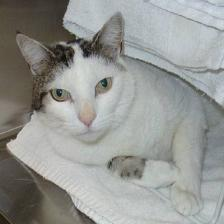cat: (12, 11, 130, 147)
